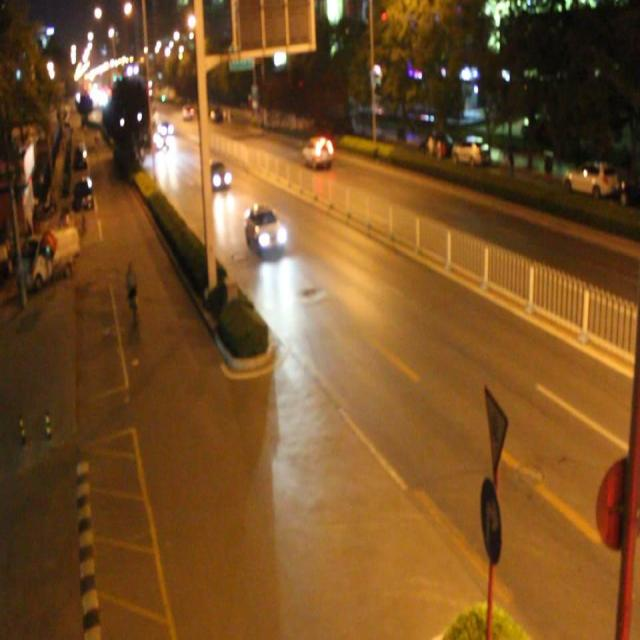car: (242, 205, 286, 258), (204, 156, 230, 191), (302, 139, 333, 168), (154, 134, 171, 152), (158, 120, 173, 140), (180, 105, 194, 120)
